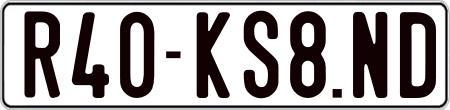0: (117, 11, 155, 102)
4: (71, 11, 109, 100)
8: (288, 9, 327, 101)
D: (400, 11, 437, 99)
K: (196, 10, 230, 98)
N: (350, 12, 386, 103)
R: (22, 10, 64, 102)
S: (242, 9, 282, 101)
